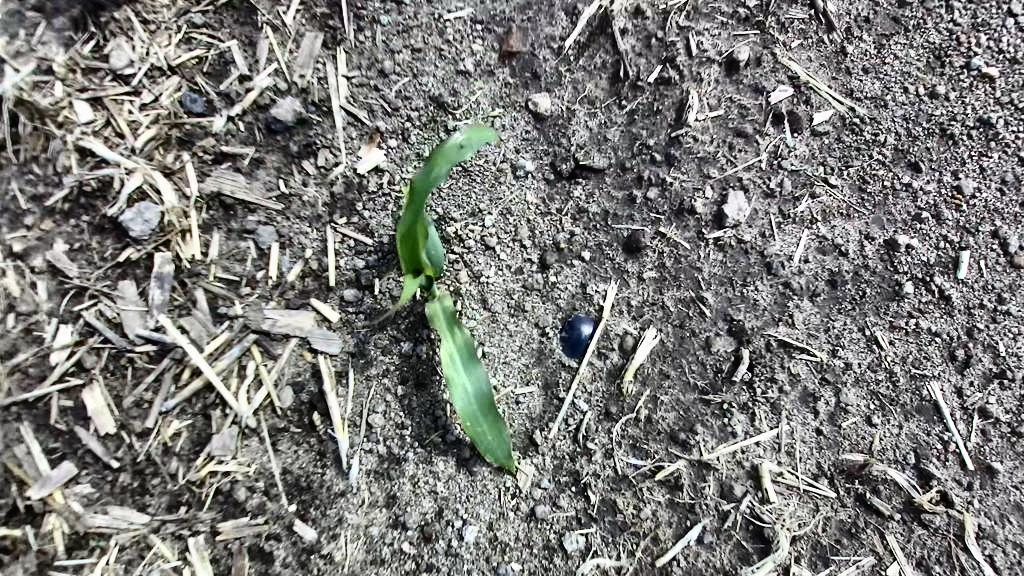BroWeed: (42, 56, 83, 91), (207, 106, 231, 137), (779, 115, 795, 147), (310, 408, 328, 435), (215, 120, 238, 139), (299, 347, 322, 366), (269, 75, 291, 93), (0, 524, 25, 535), (377, 11, 392, 27), (88, 538, 106, 547)
Maize: (364, 123, 517, 482)
